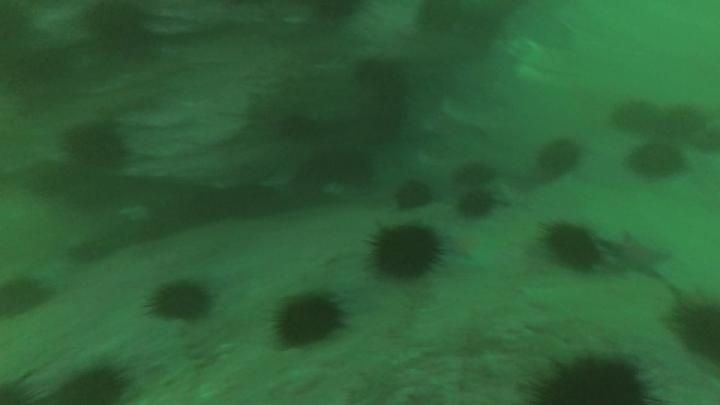echinus: (525, 350, 655, 404), (271, 290, 347, 350), (368, 222, 444, 282), (84, 1, 156, 58), (669, 292, 720, 364), (56, 160, 123, 212), (541, 219, 604, 274), (52, 361, 131, 404), (64, 120, 130, 171), (146, 278, 214, 325), (315, 144, 375, 191), (354, 55, 410, 101), (360, 100, 414, 147), (626, 140, 686, 181), (1, 273, 53, 320), (535, 136, 583, 180), (609, 97, 661, 136), (658, 102, 707, 142), (415, 1, 465, 36), (306, 1, 368, 26), (392, 178, 435, 214), (452, 158, 497, 189), (456, 187, 497, 221)
starfish: (604, 230, 673, 282), (444, 224, 498, 268)
